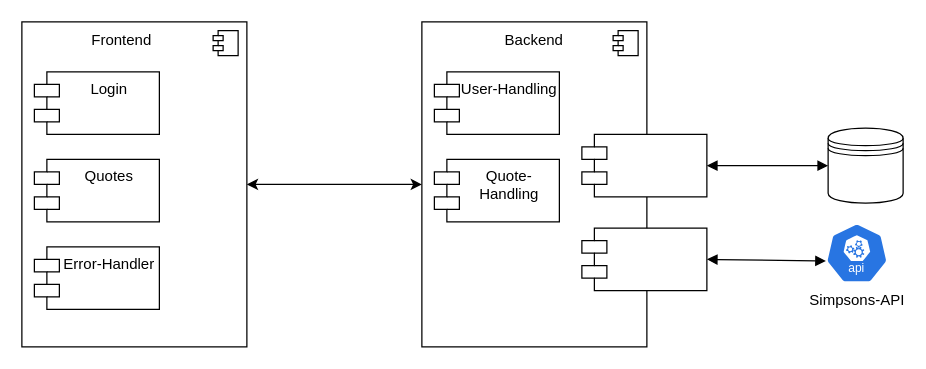
Image size: 926x369. Some labels were removed from this diagram. The shapes that lost their labels are listed below. From the top down, each one's centre as x and y in pixels, then its label:
point 644,165: Database-Adapter
point 644,259: Simpson-Secure-Api-Handler
